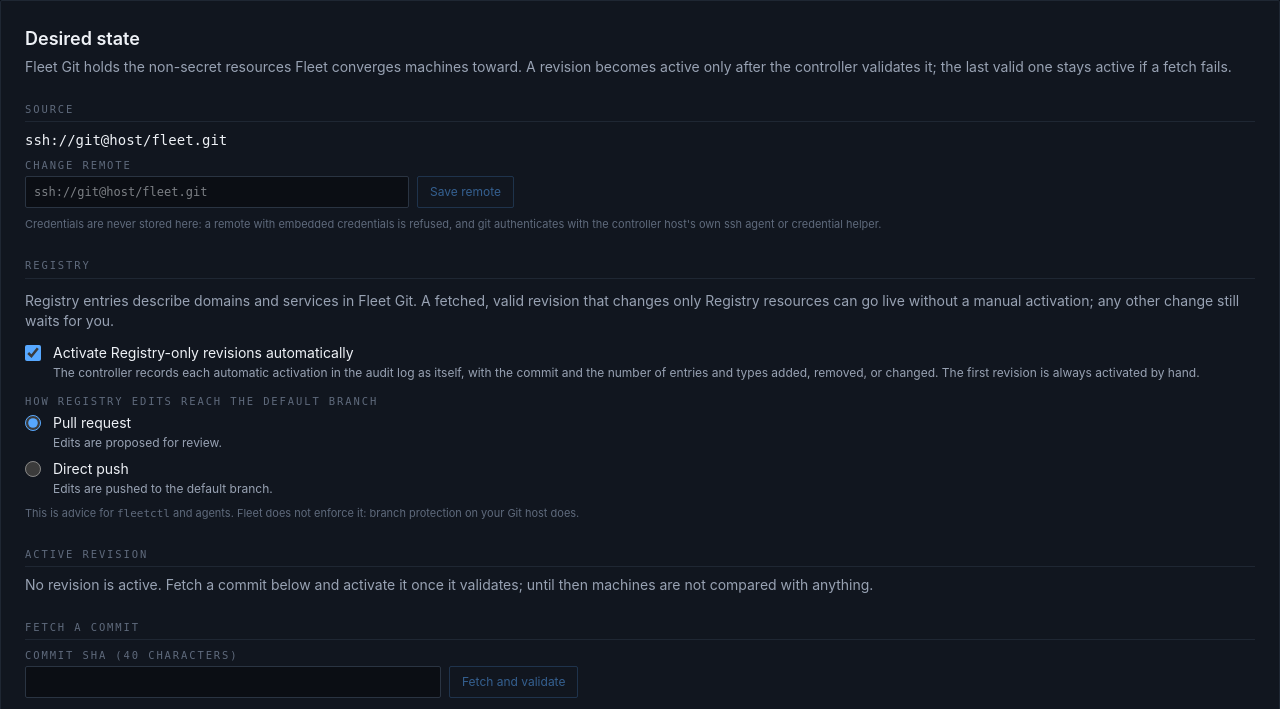
Test: remote › shows why a remote was refused
Type "https://user:pw@host/x.git" into the field with test id "remote-input" at (217,192), box [25,176,409,208]
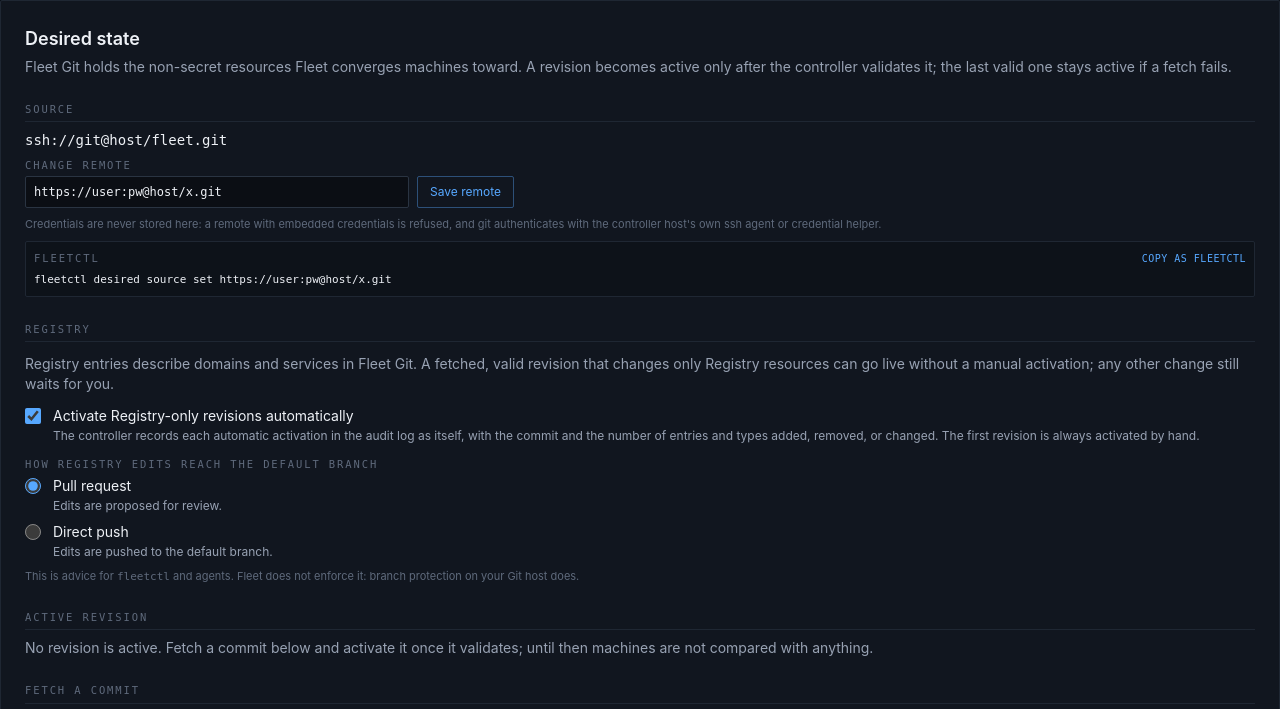
Submit the form from the button with test id "remote-save", box [417,176,514,208]
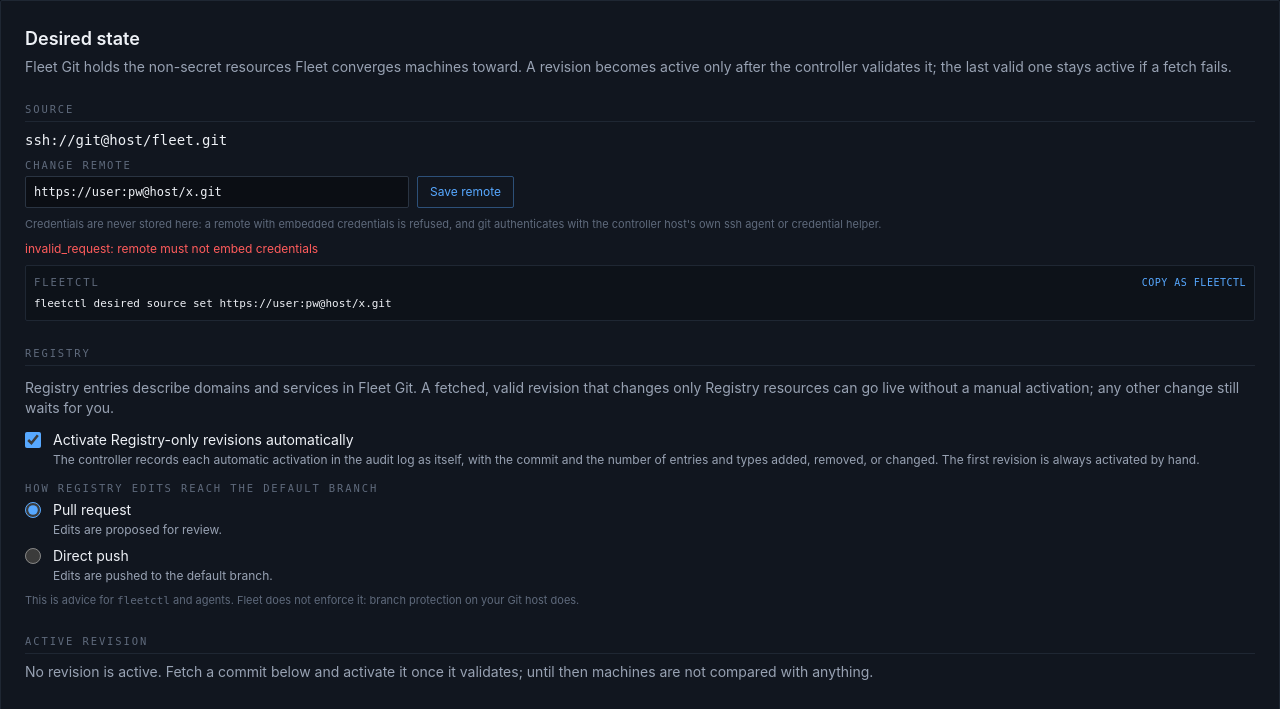
Now the message with test id "remote-error" shows "remote must not embed credentials", box [25,241,318,256]
